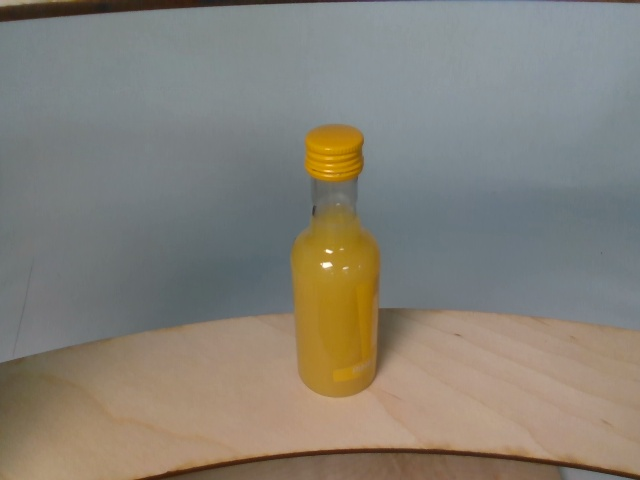orange_juice: (288, 125, 383, 399)
